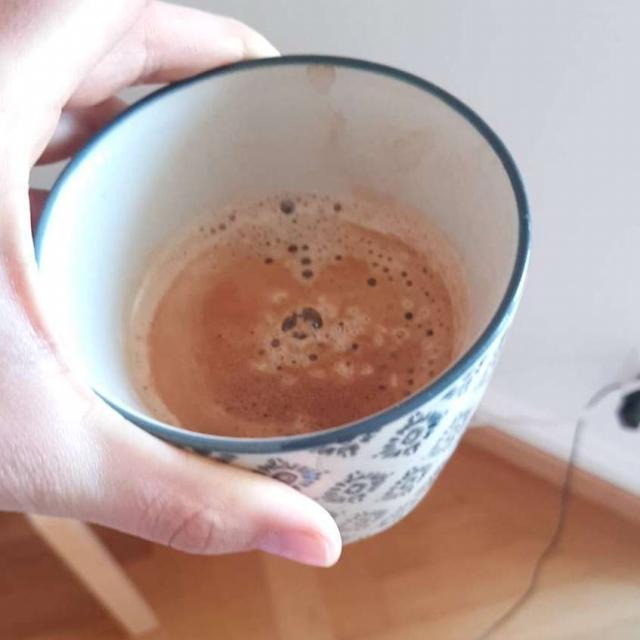coffee: (139, 195, 459, 430)
